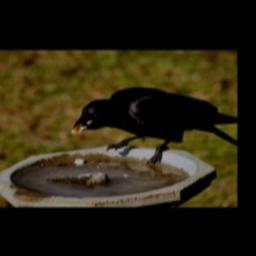Crow: (70, 86, 237, 166)
